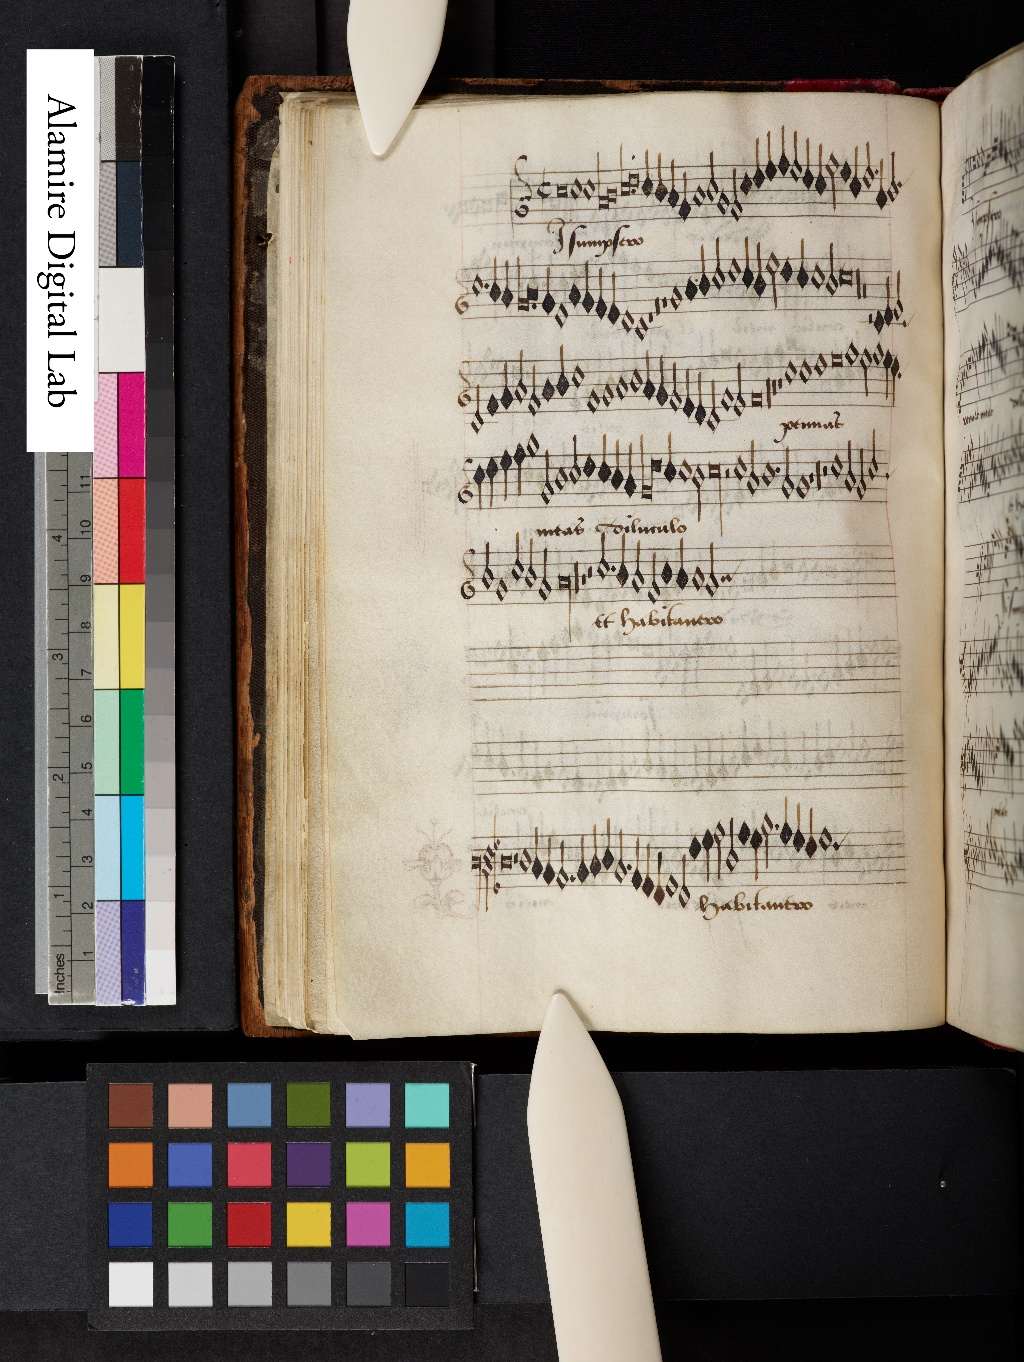breve rest: (769, 341, 778, 409)
breve_10: (745, 382, 765, 415)
breve_4: (827, 345, 847, 375)
colored semibreve_10: (482, 387, 500, 422)
colored semibreve_8: (537, 370, 555, 409)
custos_6: (896, 356, 909, 385)
g clef_9: (450, 345, 477, 417)
longa rest: (762, 345, 776, 417)
minim_10: (525, 357, 542, 422), (665, 354, 682, 417)
minim_11: (730, 357, 746, 422)
minim_13: (705, 372, 720, 430), (469, 384, 484, 430)
minim_4: (857, 340, 872, 402)
minim_8: (512, 345, 529, 410)
semibreve rest: (776, 352, 785, 412)
semibreve_10: (582, 380, 602, 420), (717, 377, 735, 417)
semibreve_3: (842, 334, 861, 370), (869, 335, 884, 369)
semibreve_5: (810, 344, 829, 382)
semibreve_6: (795, 350, 814, 391), (780, 352, 799, 391), (569, 355, 587, 394)
semibreve_7: (625, 359, 644, 397)
semibreve_8: (612, 367, 630, 407)
semibreve_9: (600, 375, 617, 415)
semiminim_11: (680, 359, 695, 422)
semiminim_12: (694, 365, 707, 427)
semiminim_4: (879, 342, 892, 407)
semiminim_5: (890, 351, 898, 415)
semiminim_7: (552, 337, 570, 405)
semiminim_8: (640, 345, 655, 405)
semiminim_9: (497, 355, 515, 417), (654, 349, 667, 412)
